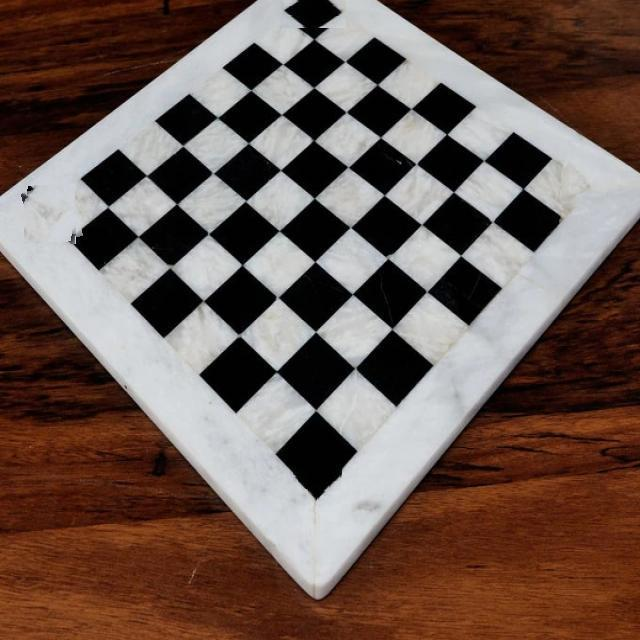chess-table-corners: (24, 183, 80, 247), (562, 157, 614, 208), (293, 463, 342, 512), (281, 0, 346, 28)
